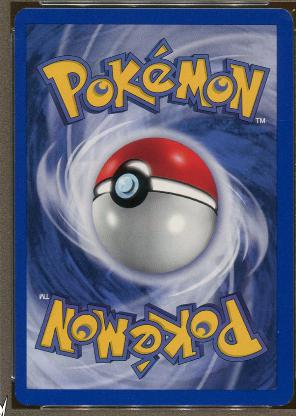Card: (11, 5, 293, 409)
Corner Wear: (276, 392, 293, 406)
Scratch: (272, 118, 286, 122)
